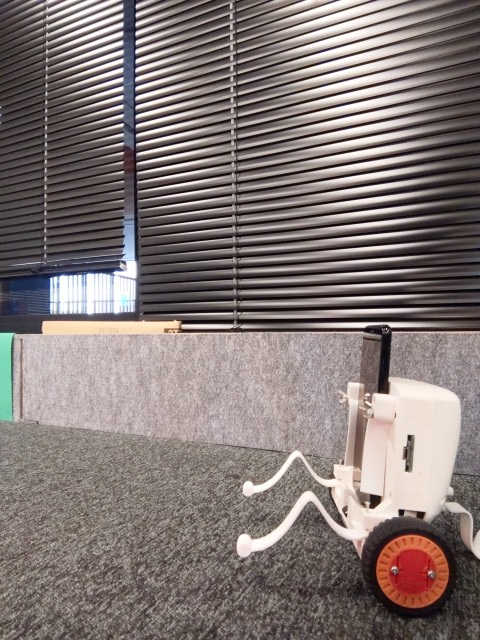bl: (231, 323, 480, 612)
